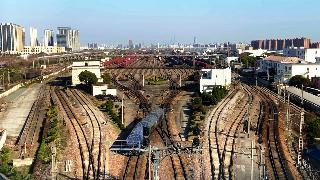train: (126, 107, 165, 156)
